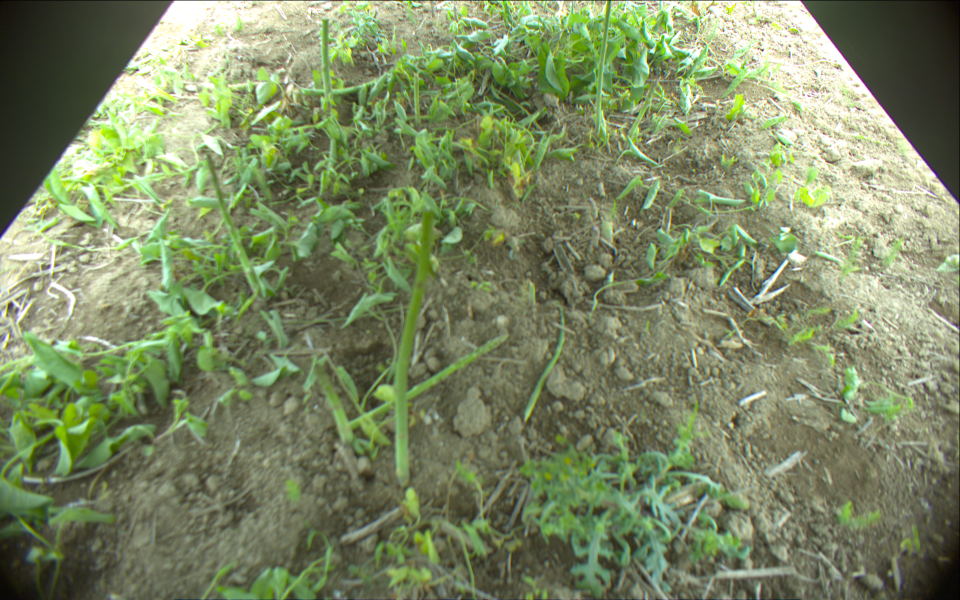aspa: (348, 333, 510, 432), (394, 205, 432, 489), (204, 153, 260, 289), (523, 306, 567, 421), (227, 71, 386, 95), (314, 364, 354, 450), (625, 68, 663, 149), (595, 1, 613, 131), (321, 18, 336, 128), (412, 72, 423, 126)
